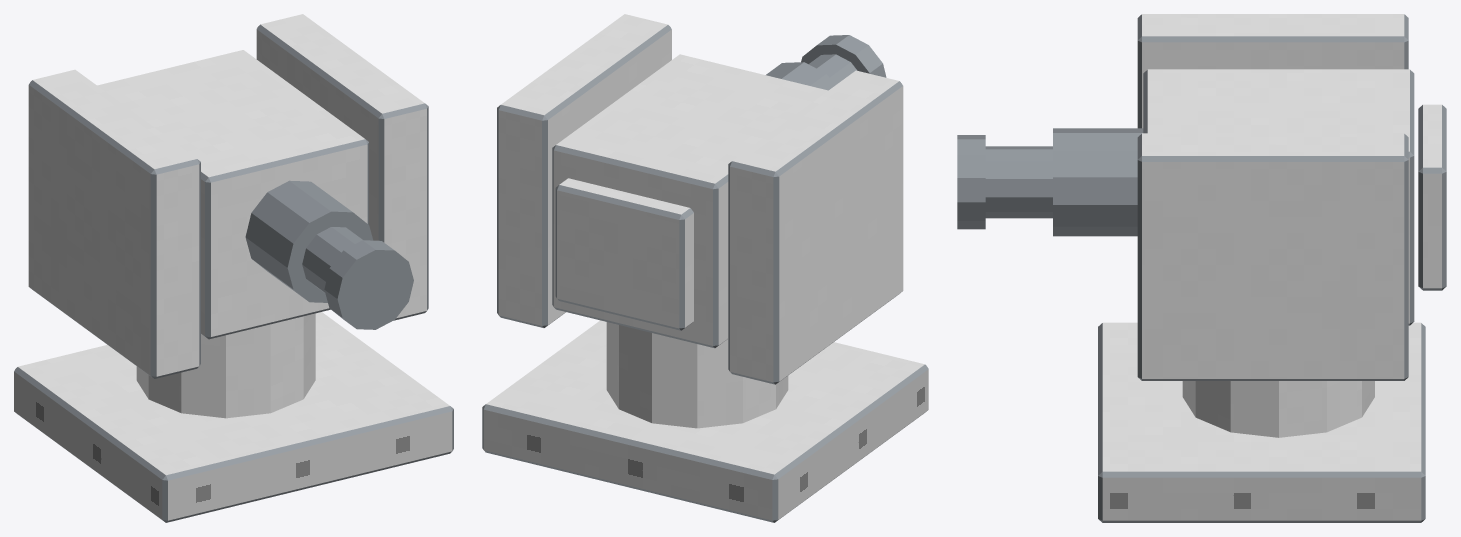
The picture shows the model from 3 angles, left to right: view 1: azimuth 30°, elevation 25°; view 2: azimuth 150°, elevation 25°; view 3: azimuth 270°, elevation 25°; orthographic projection. The views are drawn at different scales.
Visible parts, largest first — view 1: cannon; view 2: cannon; view 3: cannon.
Boxes of the visible parts, left/top/right/bottom form: cannon: left=14, top=14, right=453, bottom=522; cannon: left=482, top=14, right=928, bottom=522; cannon: left=957, top=14, right=1446, bottom=522.
Bounding box in the file's own units: 0.32 × 0.355 × 0.433.
Materials: 2 (1 with a texture image).
